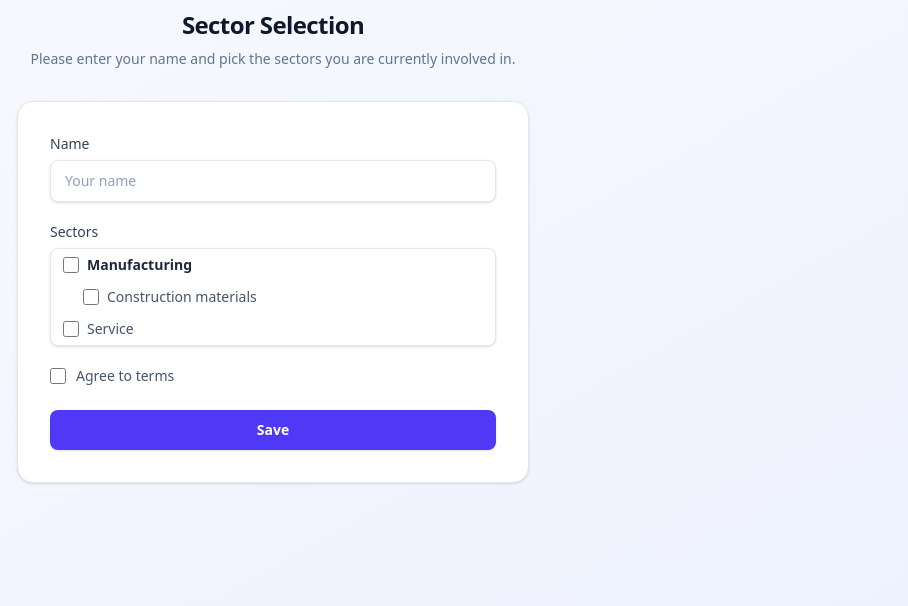
Test: App › submits form successfully
This screenshot has width=908, height=606.
In the field with placeholder "Your name": (273, 181) x1=50 y1=160 x2=496 y2=202, type "John"
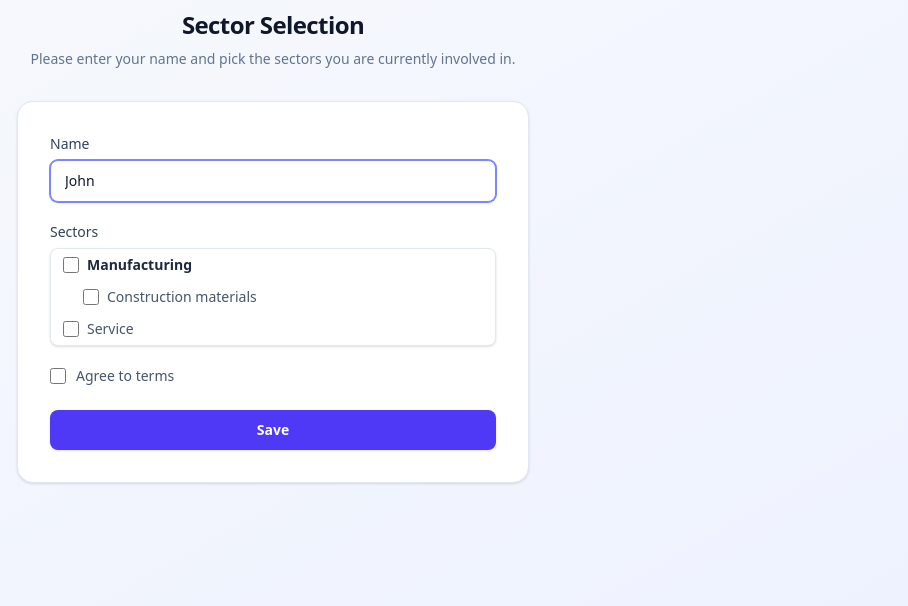
Click the text "Manufacturing": (140, 265) x1=87 y1=255 x2=192 y2=275
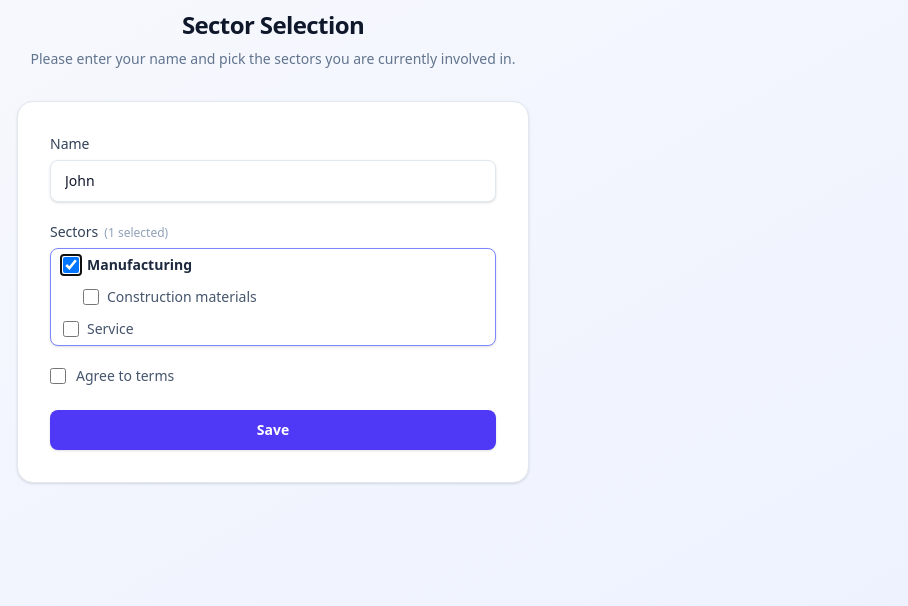
Click the text "Agree to terms": (125, 376) x1=76 y1=366 x2=174 y2=386
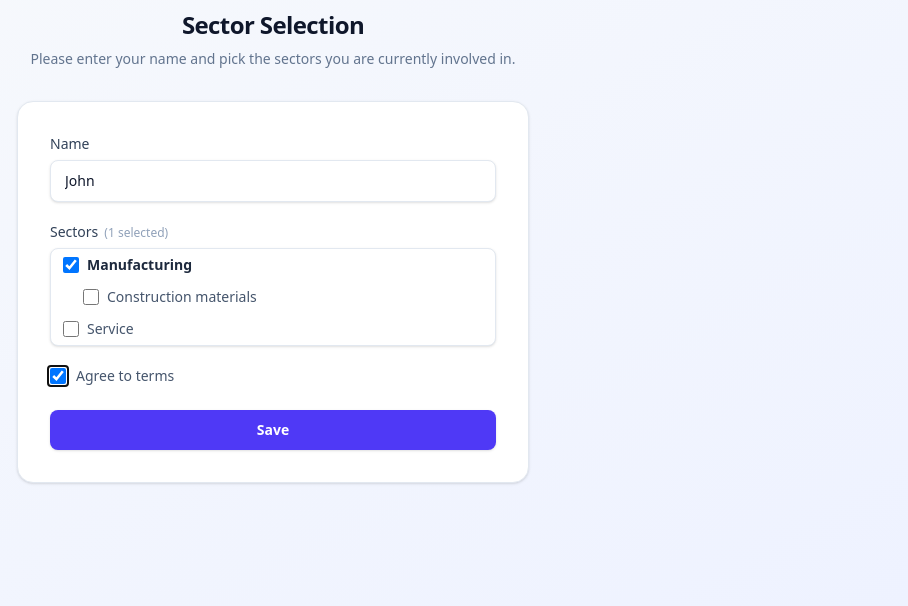
Click the button "Save": (273, 430) x1=50 y1=410 x2=496 y2=450
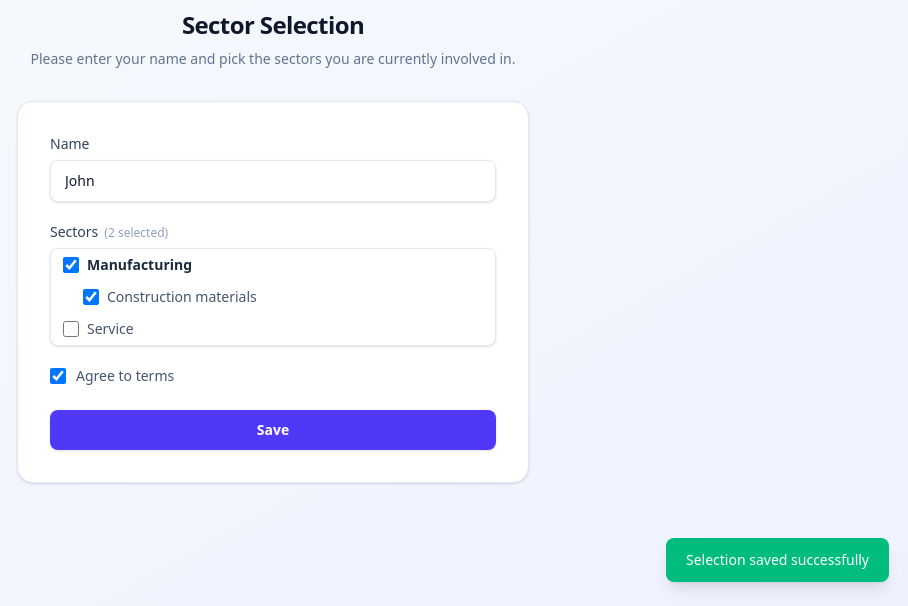
expect the text "Selection saved successfully" is shown: met, box x1=666 y1=538 x2=889 y2=582
